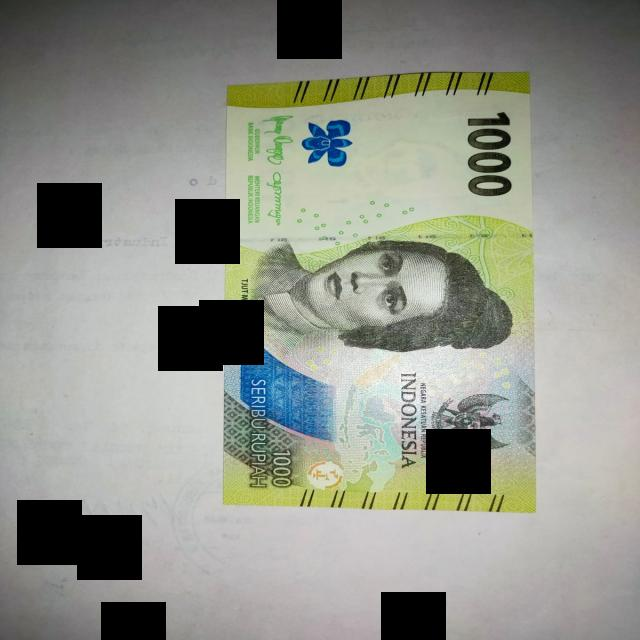seribu rupiah: (223, 72, 535, 512)
